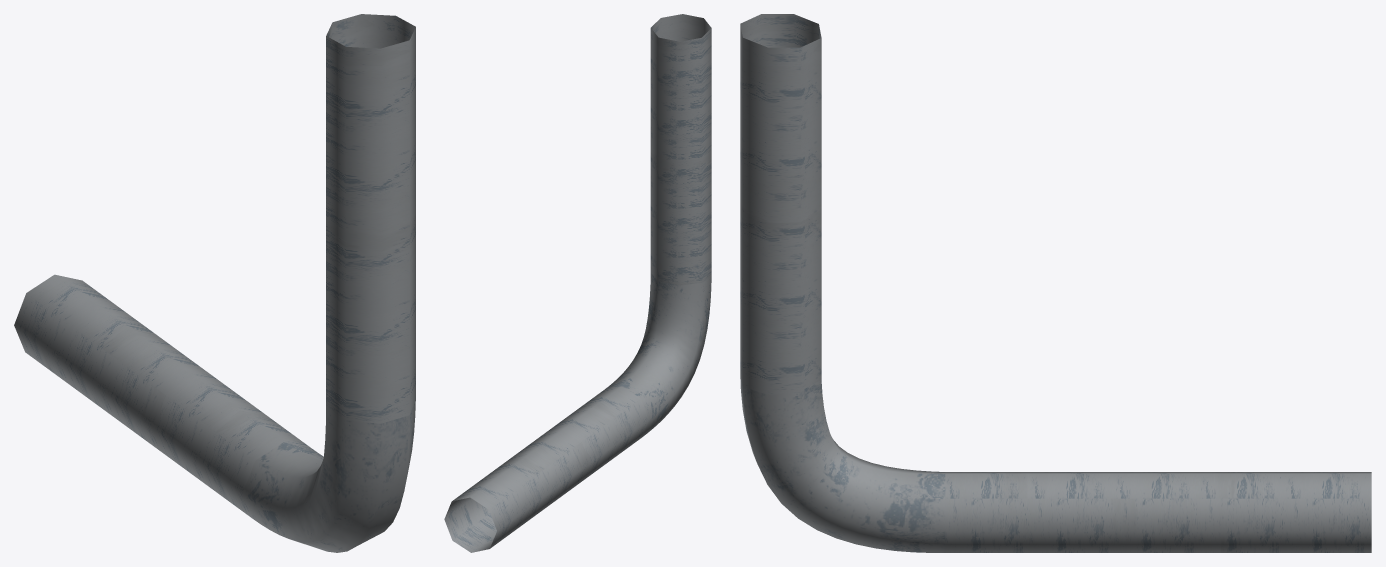
File: TopPipe1.fbx
3 renders of one model, left to right at view 1: azimuth 30°, elevation 25°; view 2: azimuth 150°, elevation 25°; view 3: azimuth 270°, elevation 25°, orthographic. The views are drawn at different scales.
Parts seen in each view (by area): view 1: BarHorizontal3, BarVertical5, CornerR2; view 2: BarHorizontal3, BarVertical5, CornerR2; view 3: BarVertical5, BarHorizontal3, CornerR2.
Part boxes in pixels (left/top/right/bottom): BarHorizontal3: left=326, top=14, right=415, bottom=423; BarVertical5: left=14, top=274, right=310, bottom=519; CornerR2: left=243, top=400, right=415, bottom=552; BarHorizontal3: left=650, top=14, right=711, bottom=285; BarVertical5: left=444, top=386, right=648, bottom=552; CornerR2: left=604, top=273, right=711, bottom=437; BarVertical5: left=945, top=472, right=1371, bottom=552; BarHorizontal3: left=740, top=14, right=821, bottom=394; CornerR2: left=740, top=374, right=945, bottom=552.
Size of the model in its own units: 13.46 by 90.62 by 99.36.
Materials: 1 (1 with a texture image).
